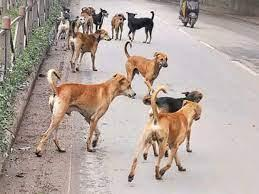normal_dogs: (30, 68, 135, 150), (127, 88, 208, 186), (119, 39, 169, 99), (140, 90, 206, 118), (70, 23, 112, 66), (126, 6, 162, 43), (58, 2, 74, 48), (111, 8, 124, 44), (82, 5, 94, 34), (91, 9, 107, 29), (74, 12, 84, 34)
